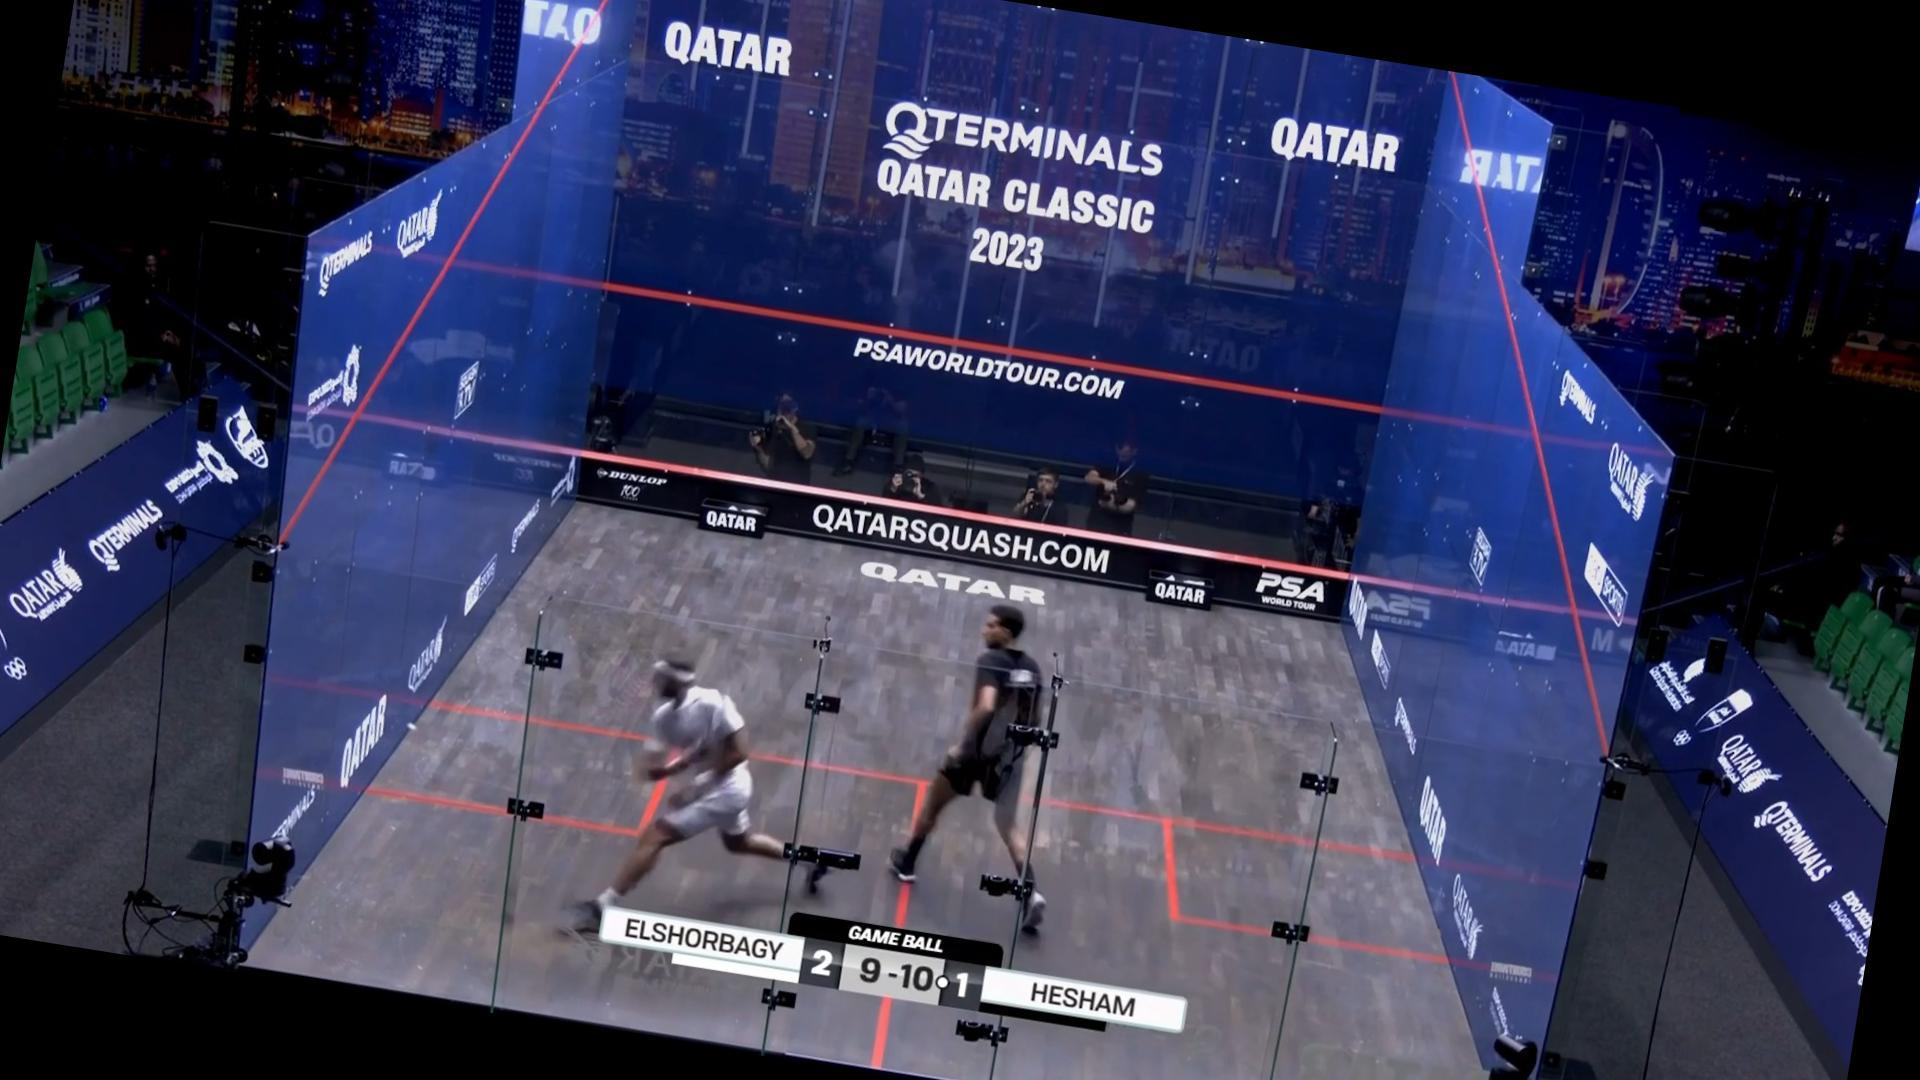Squash-Ball: (396, 708, 425, 746)
